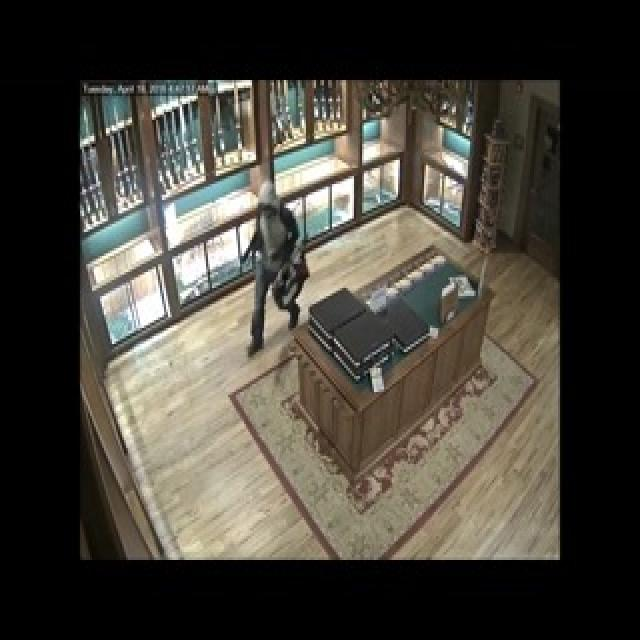thief: (238, 190, 320, 352)
